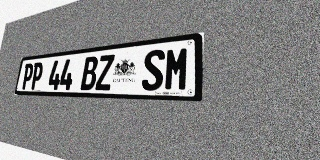4: (59, 59, 75, 90), (47, 60, 63, 90)
B: (80, 56, 99, 90)
M: (164, 46, 190, 91)
P: (30, 62, 44, 90), (21, 63, 34, 90)
S: (141, 49, 165, 91)
Z: (95, 54, 115, 90)
